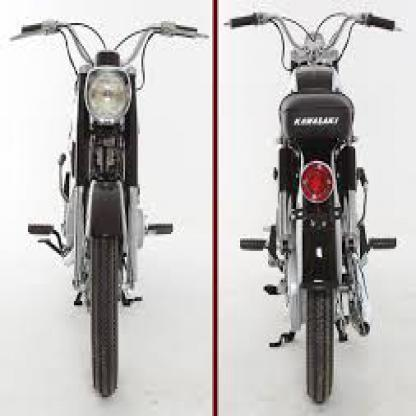Motorcycle: (12, 0, 210, 409), (225, 0, 403, 414)
